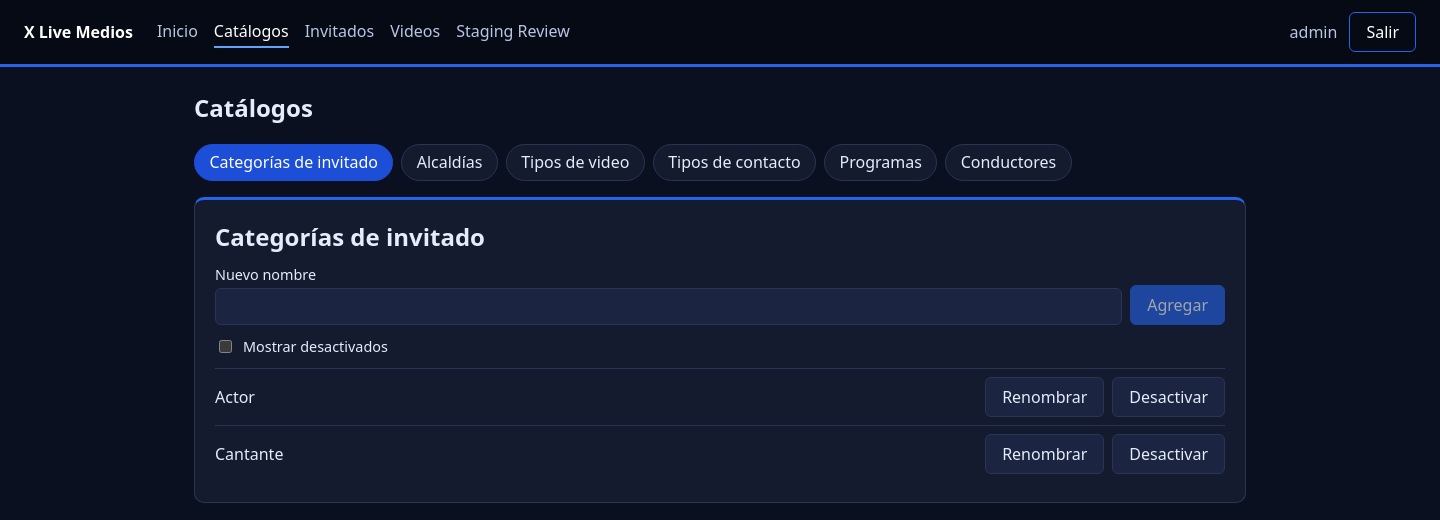
Test: Catálogos › renombrar: edita en la fila y guarda con PATCH
Expected: the text "Cantante" is shown, [215,443,283,465]
Click the button with aria-label "Renombrar Cantante" at (1045, 454), box [985,434,1104,474]
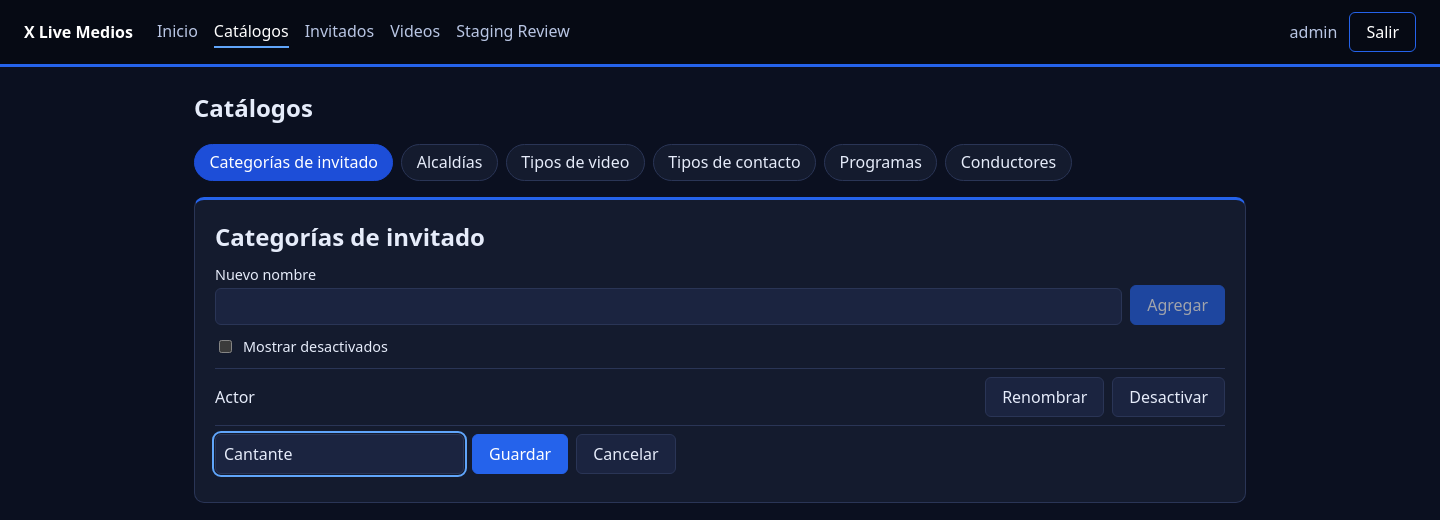
Replace the text in the field named "Nuevo nombre para Cantante" with "Cantautor" at (340, 454), box [215,434,464,474]
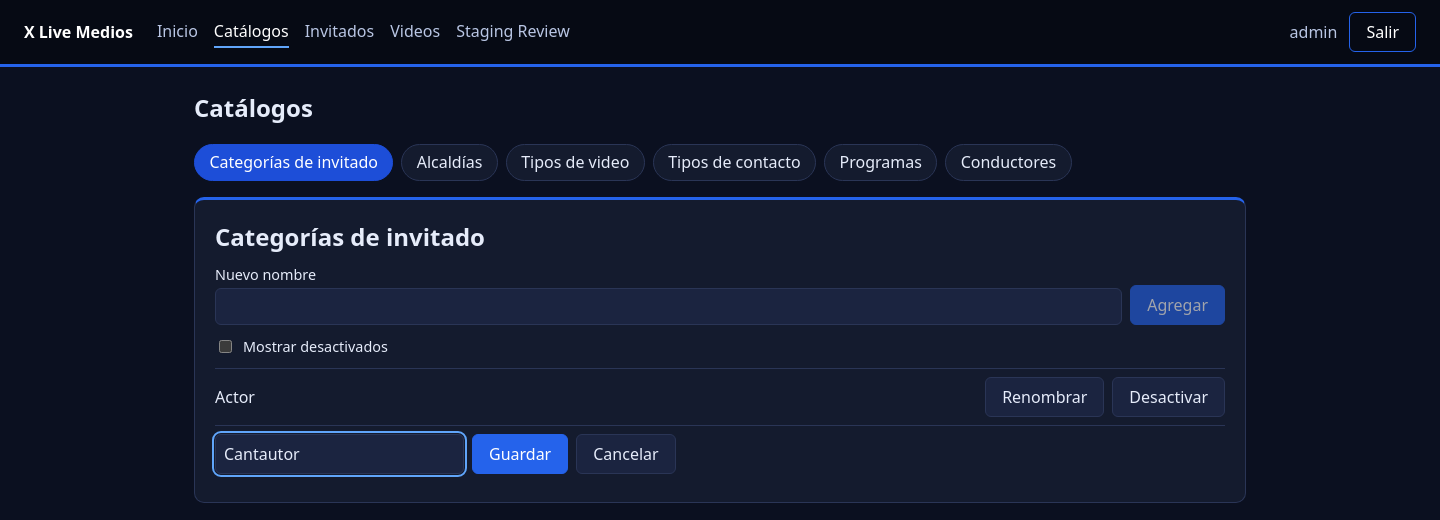
Click the button "Guardar" at (520, 454), box [472,434,568,474]
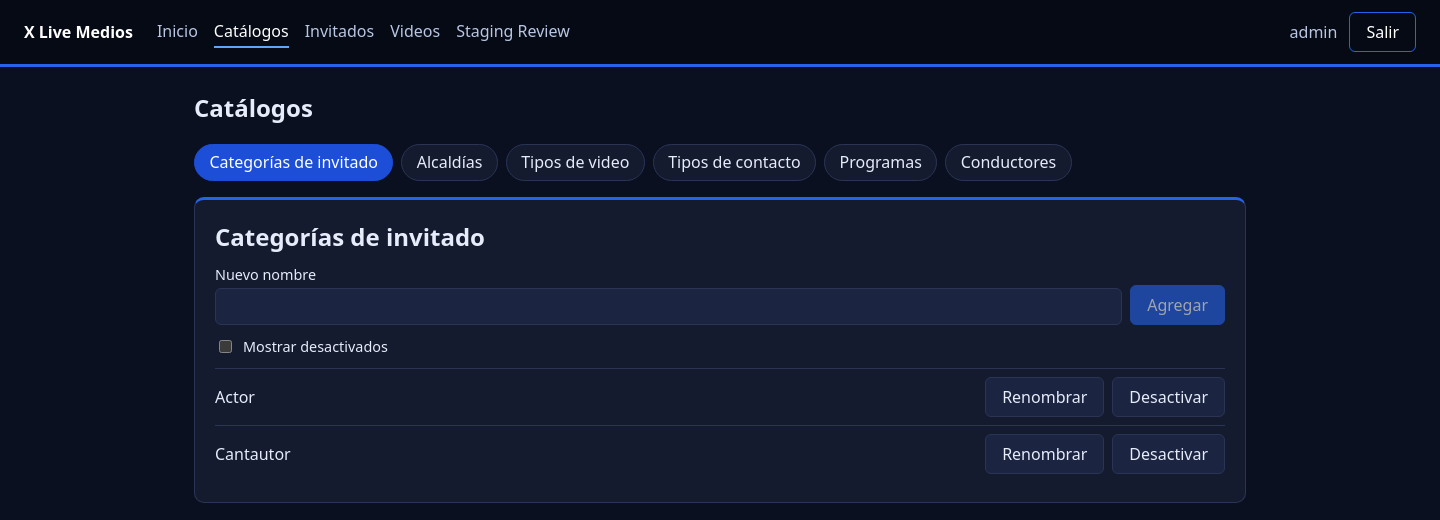
Expected: the text "Cantante" is not shown
Now the text "Cantautor" is shown, box [215,443,291,465]
